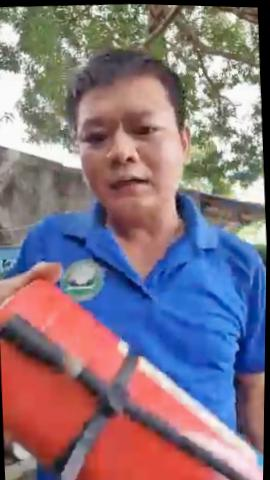FireExtinguisher: (0, 247, 267, 480)
not: (49, 65, 208, 273)
